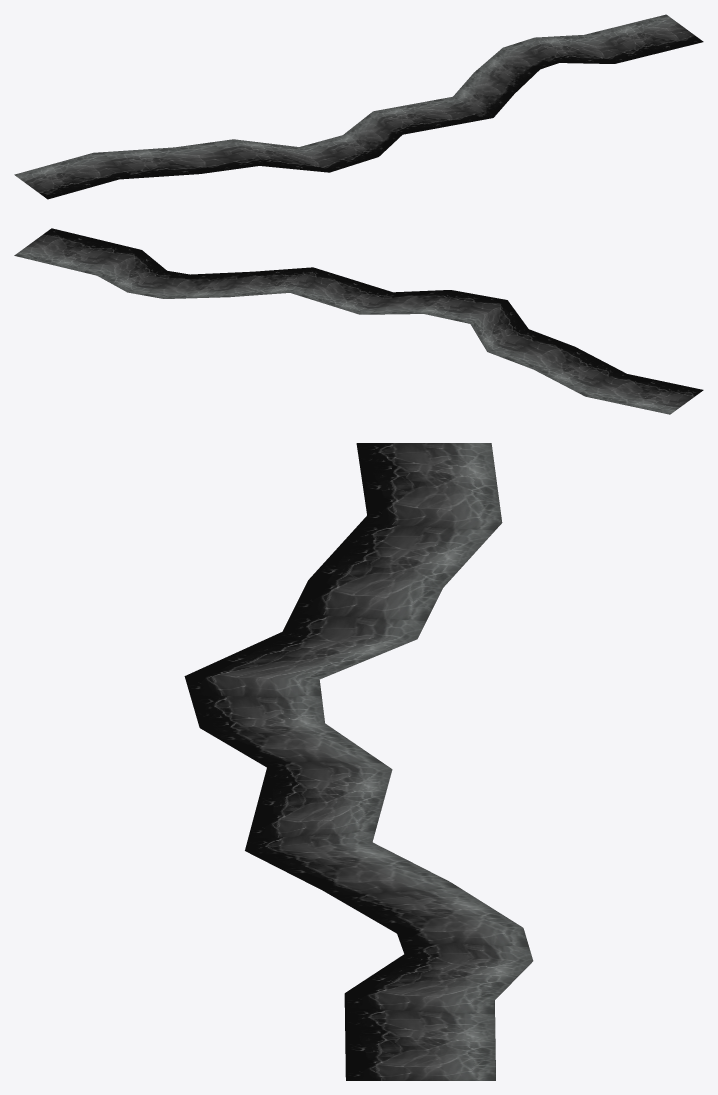
Rendered from wavewallstraight.fbx.
3 renders of one model, top to bottom at view 1: azimuth 30°, elevation 25°; view 2: azimuth 150°, elevation 25°; view 3: azimuth 270°, elevation 25°, orthographic. The views are drawn at different scales.
Parts seen in each view (by area): view 1: obj0.069; view 2: obj0.069; view 3: obj0.069.
Boxes of the visible parts, x1,y1,x2,y2 form: obj0.069: (14, 14, 703, 199); obj0.069: (14, 228, 703, 414); obj0.069: (184, 443, 533, 1080).
Bounding box in the file's own units: 20 × 0.001 × 4.62.
